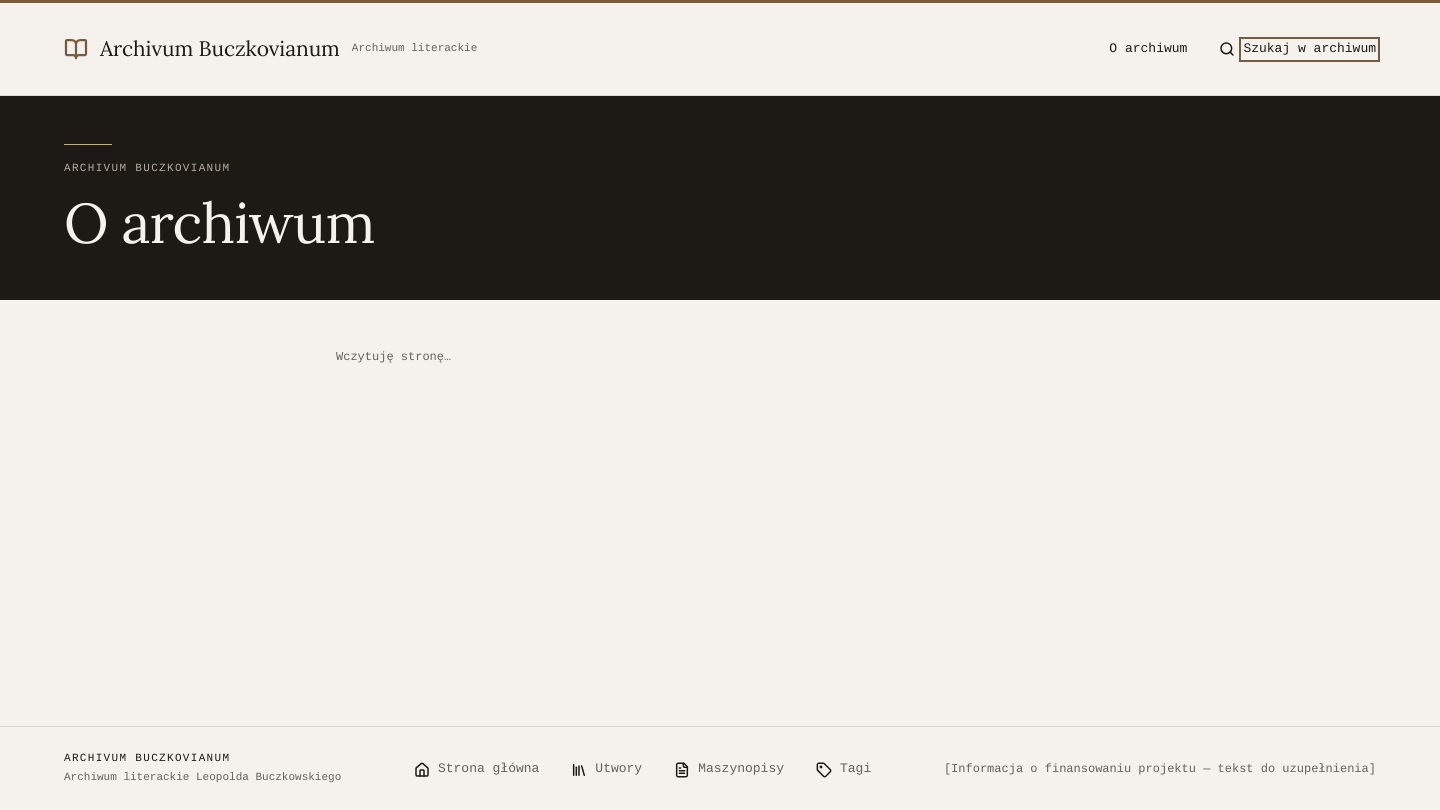
Test case: SearchCombobox › US-RA-17 AC1: Escape closes the list and keeps the text
Type "czarny" into the dropdown labelled "Szukaj w archiwum" at [1310, 49], box [1243, 41, 1376, 58]
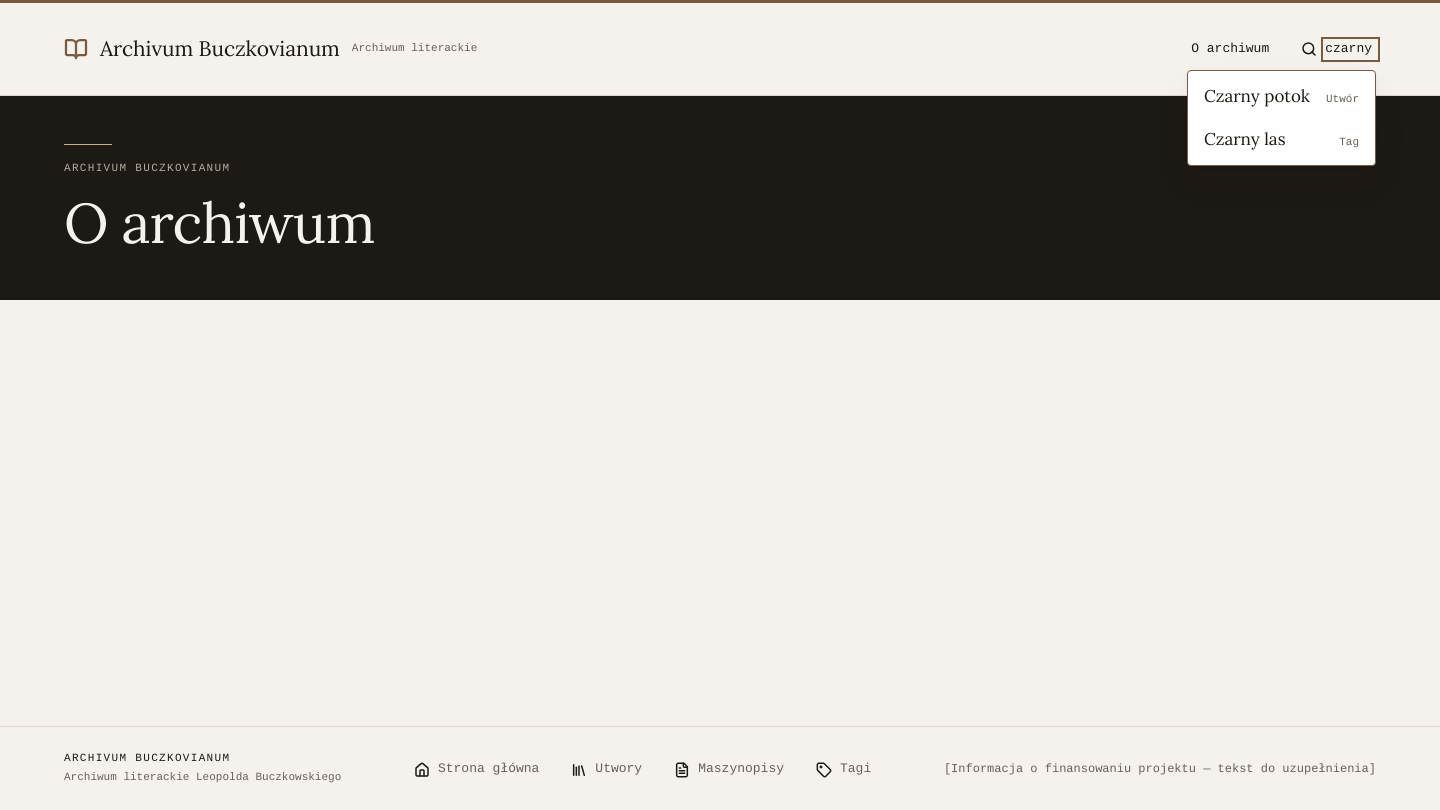
Press Escape in the dropdown named "Szukaj w archiwum", box [1325, 41, 1376, 58]
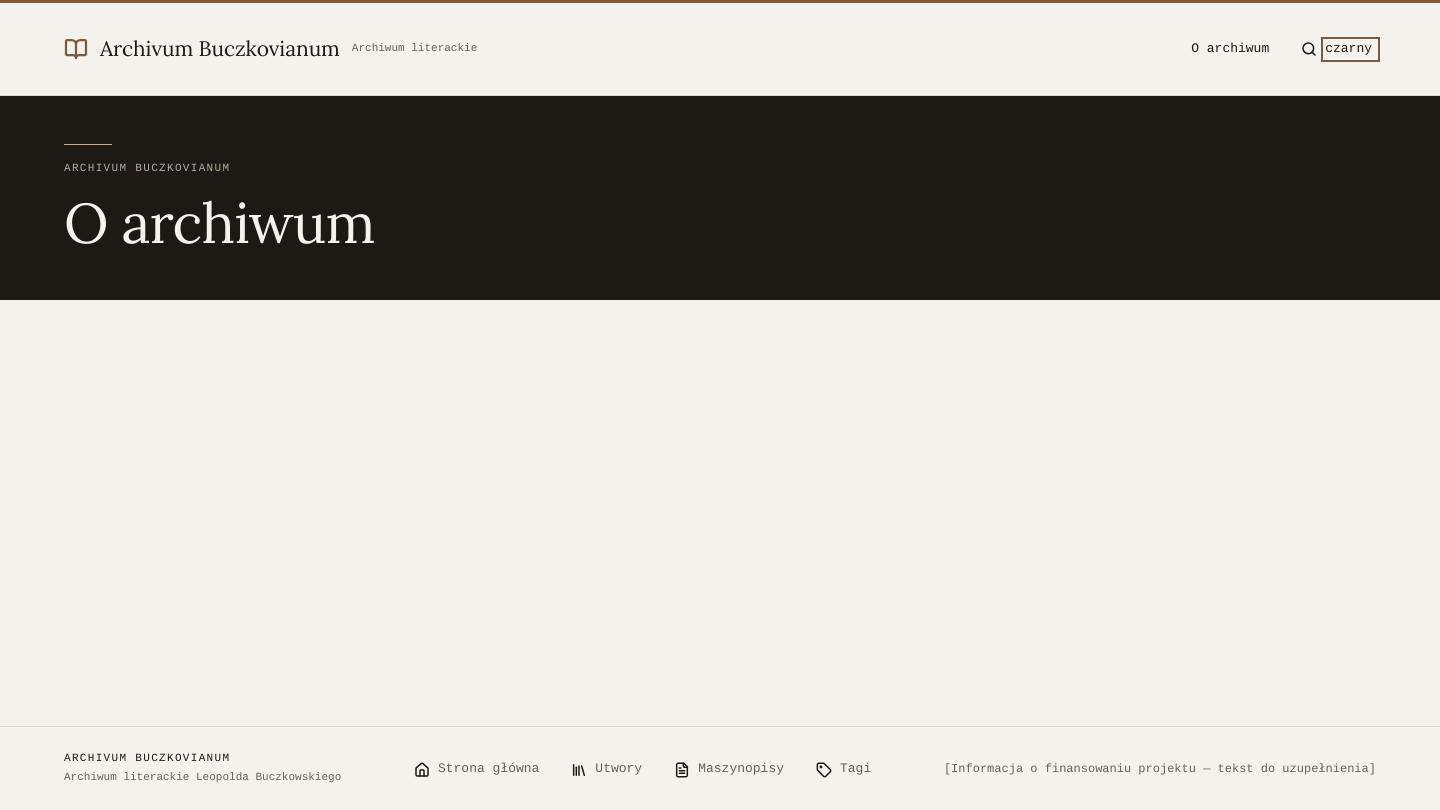
Check: the list is gone
Press ArrowDown in the dropdown named "Szukaj w archiwum", box [1325, 41, 1376, 58]
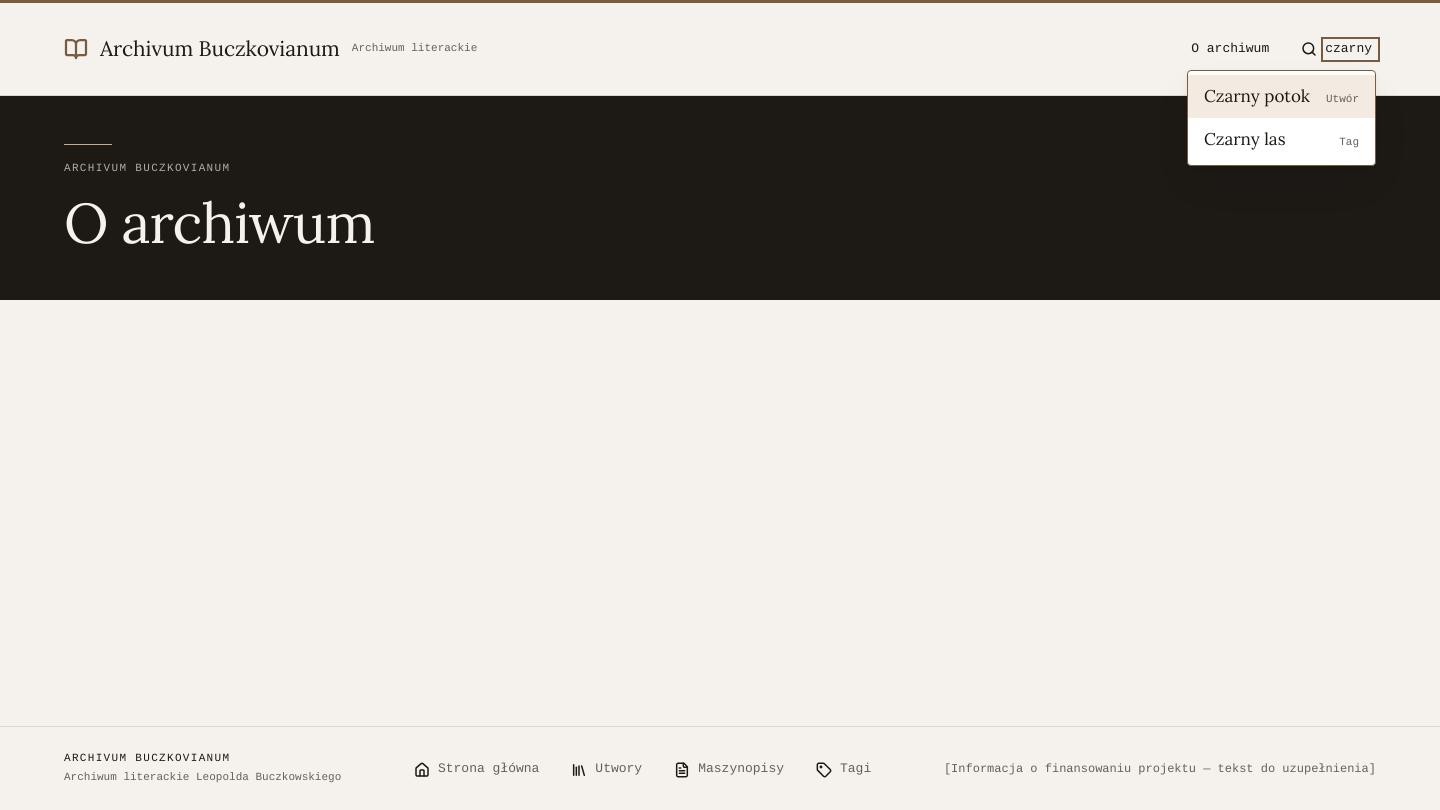
Check: the list named "Podpowiedzi" is shown, box [1187, 70, 1376, 166]
